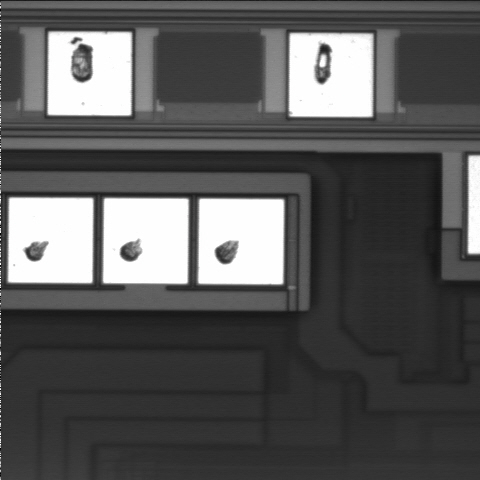pad: (103, 198, 188, 284), (198, 199, 284, 284), (8, 198, 93, 283), (289, 33, 373, 117), (48, 32, 131, 115)
